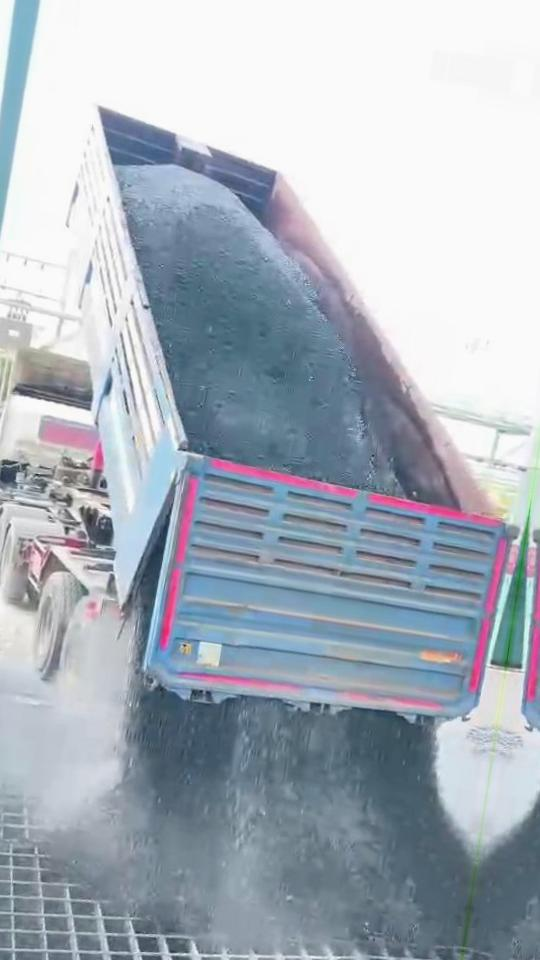gravel: (88, 573, 472, 946), (116, 165, 400, 495)
